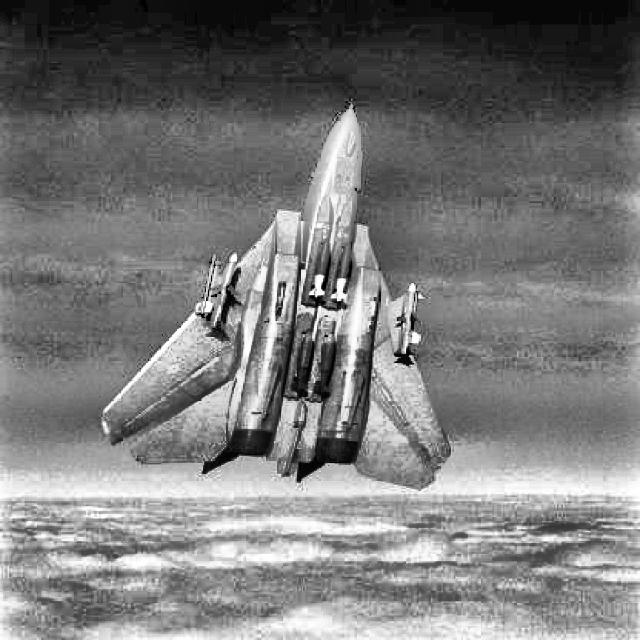F14: (99, 102, 452, 490)
